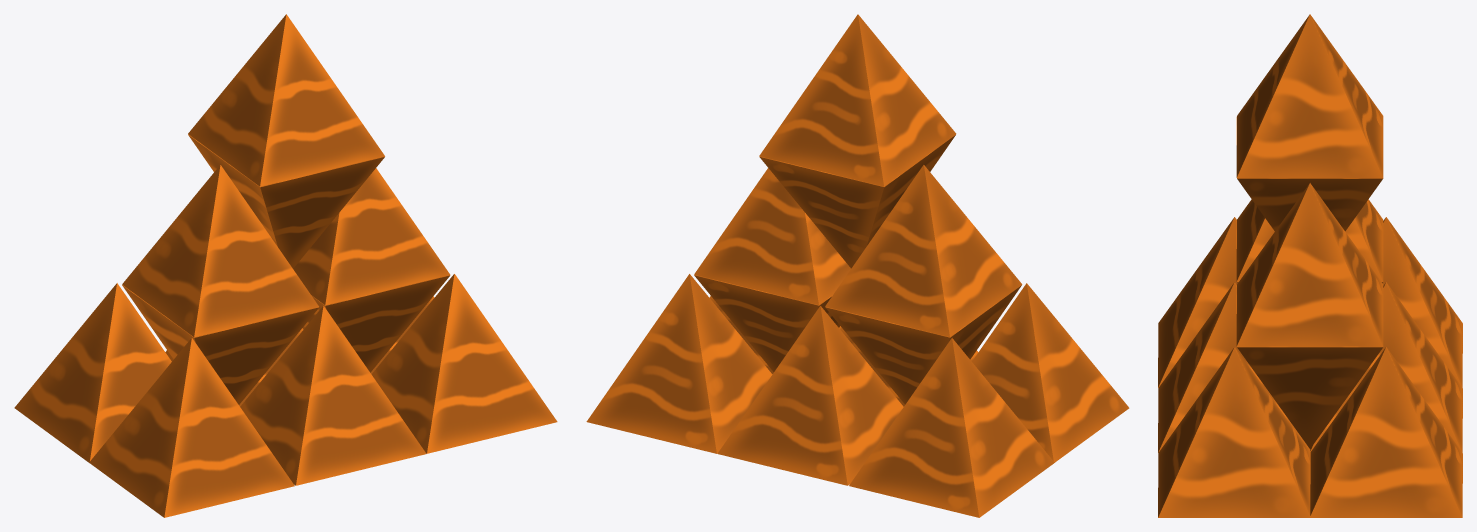
Rendered from Level1-4_Pyramids.fbx.
The picture shows the model from 3 angles, left to right: view 1: azimuth 30°, elevation 25°; view 2: azimuth 150°, elevation 25°; view 3: azimuth 270°, elevation 25°; orthographic projection.
Visible parts, largest first — view 1: Cube.003, Cube.001, Cube.002, Cube.012, Cube.010, Cube.006, Cube.009, Cube.011, Cube.008, Cube.007; view 2: Cube.006, Cube.004, Cube.005, Cube.012, Cube.010, Cube.003, Cube.009, Cube.011, Cube.008, Cube.007; view 3: Cube.002, Cube.005, Cube.009, Cube.012, Cube.007, Cube.004, Cube.001, Cube.006, Cube.003, Cube.011, Cube.010.
Part boxes in pixels (left/top/right/bottom): Cube.003: left=89, top=338, right=294, bottom=517; Cube.001: left=240, top=305, right=426, bottom=485; Cube.002: left=371, top=274, right=557, bottom=453; Cube.012: left=188, top=14, right=384, bottom=186; Cube.010: left=122, top=165, right=318, bottom=337; Cube.006: left=14, top=283, right=171, bottom=462; Cube.009: left=293, top=168, right=450, bottom=305; Cube.011: left=188, top=134, right=384, bottom=268; Cube.008: left=122, top=285, right=318, bottom=404; Cube.007: left=304, top=275, right=450, bottom=372; Cube.006: left=849, top=338, right=1054, bottom=517; Cube.004: left=717, top=306, right=903, bottom=485; Cube.005: left=586, top=274, right=772, bottom=453; Cube.012: left=759, top=14, right=956, bottom=186; Cube.010: left=825, top=165, right=1021, bottom=336; Cube.003: left=972, top=283, right=1129, bottom=462; Cube.009: left=694, top=168, right=850, bottom=304; Cube.011: left=759, top=134, right=955, bottom=268; Cube.008: left=825, top=285, right=1021, bottom=404; Cube.007: left=694, top=275, right=839, bottom=371; Cube.002: left=1158, top=347, right=1310, bottom=517; Cube.005: left=1310, top=347, right=1462, bottom=517; Cube.009: left=1236, top=183, right=1383, bottom=346; Cube.012: left=1236, top=14, right=1383, bottom=177; Cube.007: left=1236, top=285, right=1383, bottom=448; Cube.004: left=1310, top=282, right=1462, bottom=452; Cube.001: left=1158, top=282, right=1310, bottom=452; Cube.006: left=1382, top=217, right=1462, bottom=387; Cube.003: left=1158, top=217, right=1237, bottom=387; Cube.011: left=1236, top=117, right=1383, bottom=231; Cube.010: left=1236, top=199, right=1383, bottom=281.
Size of the model in its own units: 804 by 783 by 532.
